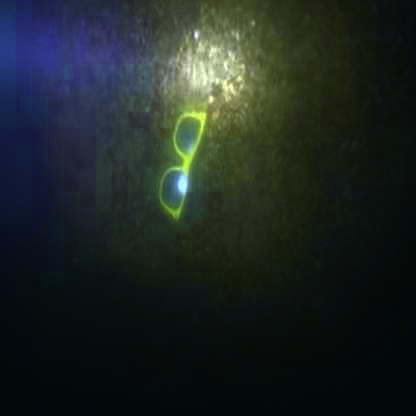sunglasses: (138, 94, 219, 242)
